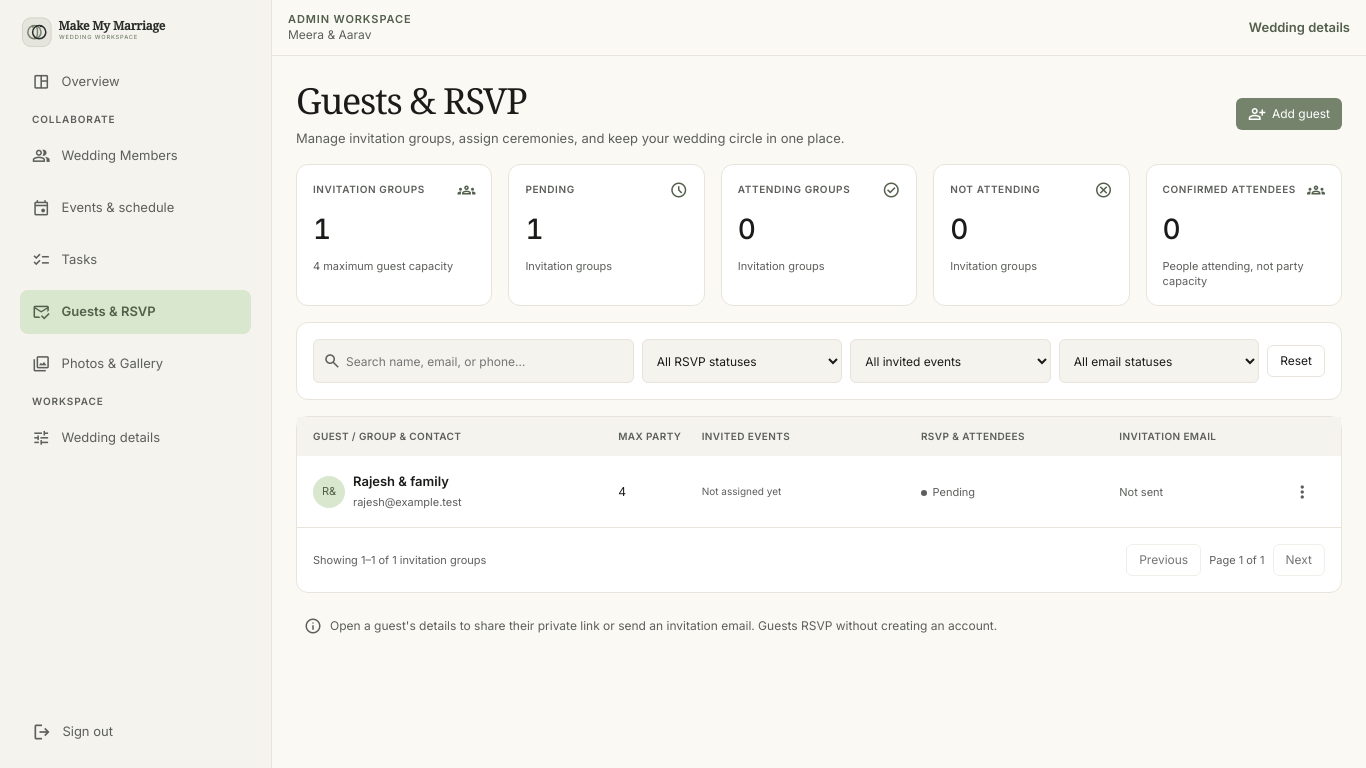
it: Guest workspace interactions and recovery › adds a group with no email, phone or events
Click the button "Add guest" at (1289, 114), box x1=1236 y1=98 x2=1342 y2=130
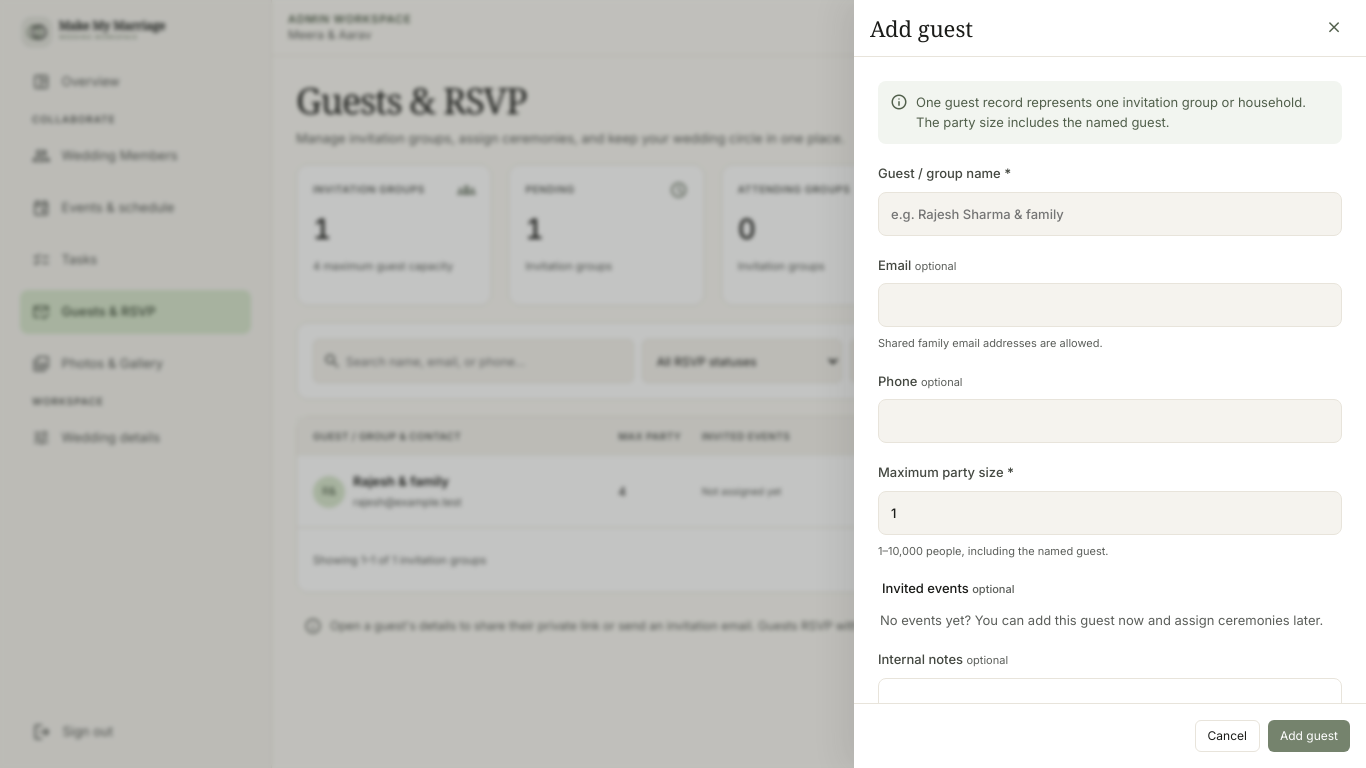
Type "New family" into the field labelled "Guest / group name *" at (1110, 214), box x1=878 y1=192 x2=1342 y2=236
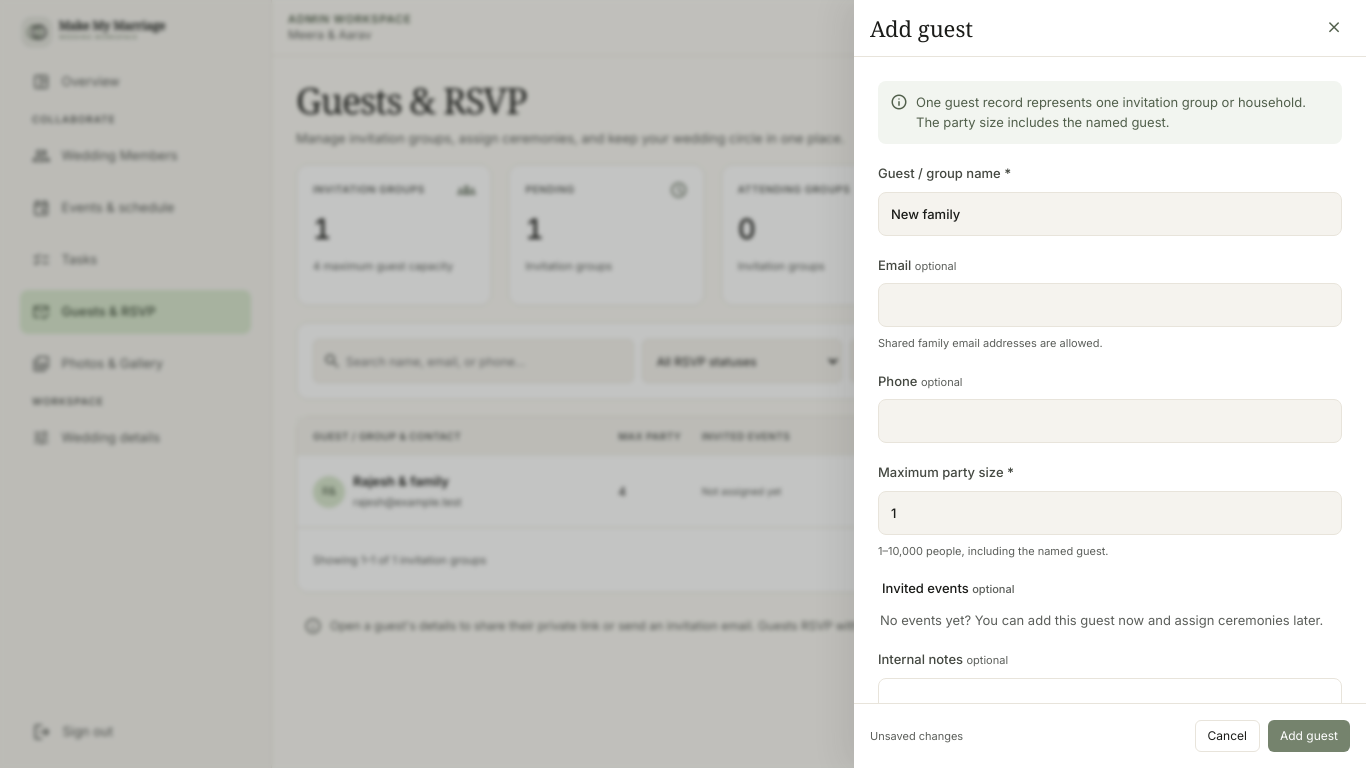
Now the text "No events yet" is shown, box x1=880 y1=612 x2=1323 y2=628
Click the button "Add guest" at (1309, 736), box x1=1268 y1=720 x2=1350 y2=752
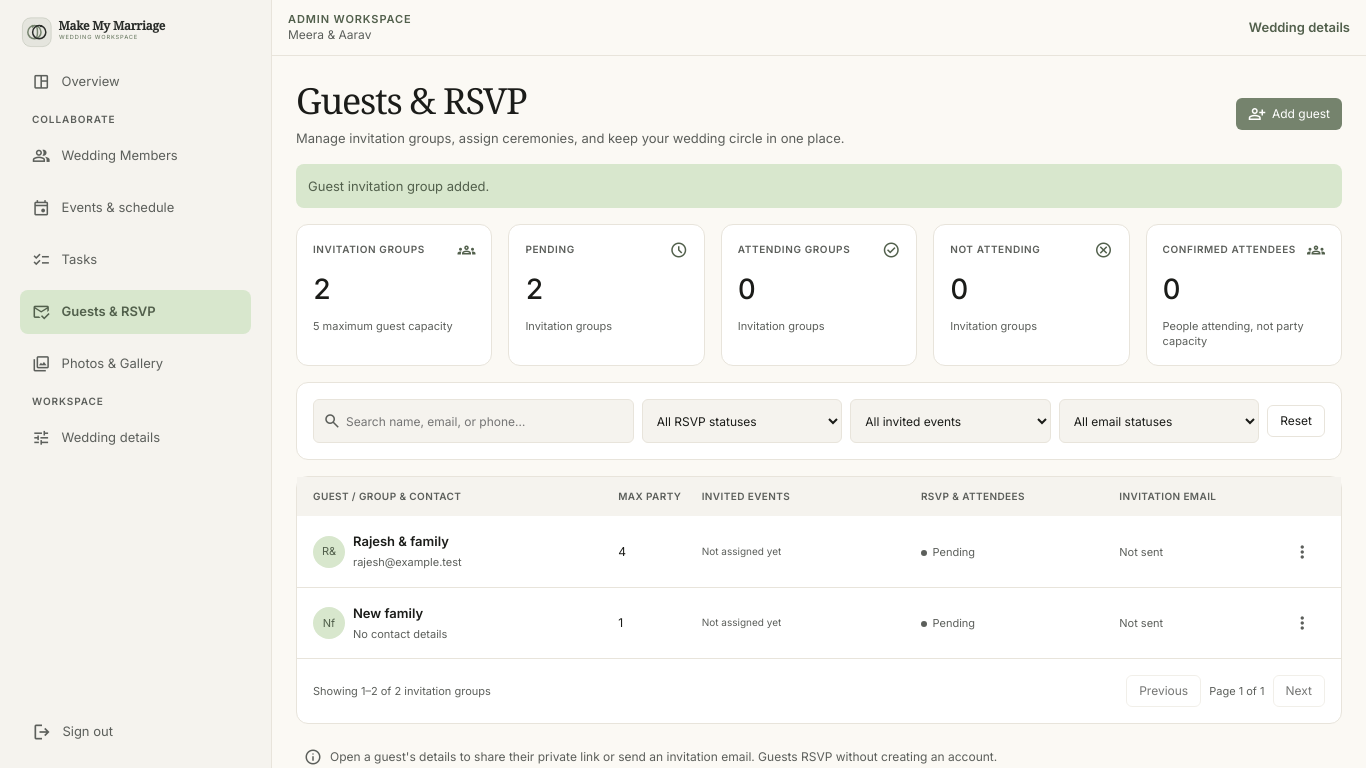
Now the button "New family" is shown, box x1=353 y1=604 x2=423 y2=622
